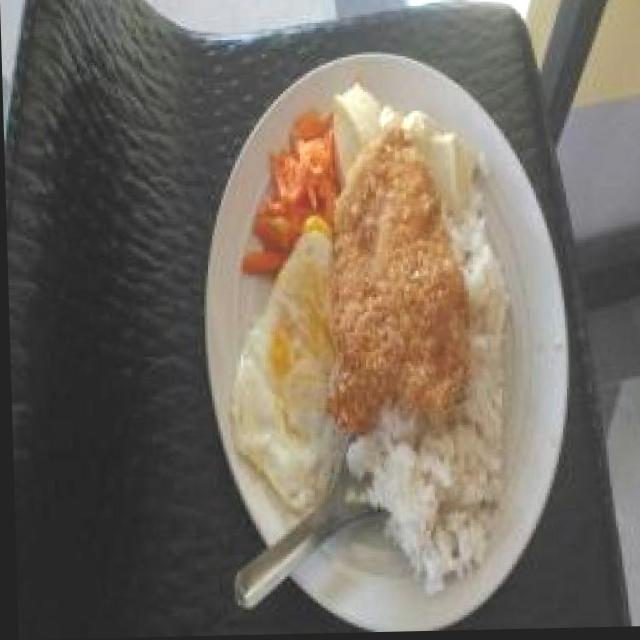carrot_eggs: (241, 109, 337, 264)
fried_chicken: (328, 127, 473, 442)
fried_eggs: (225, 229, 335, 509)
rice: (373, 427, 496, 572)
